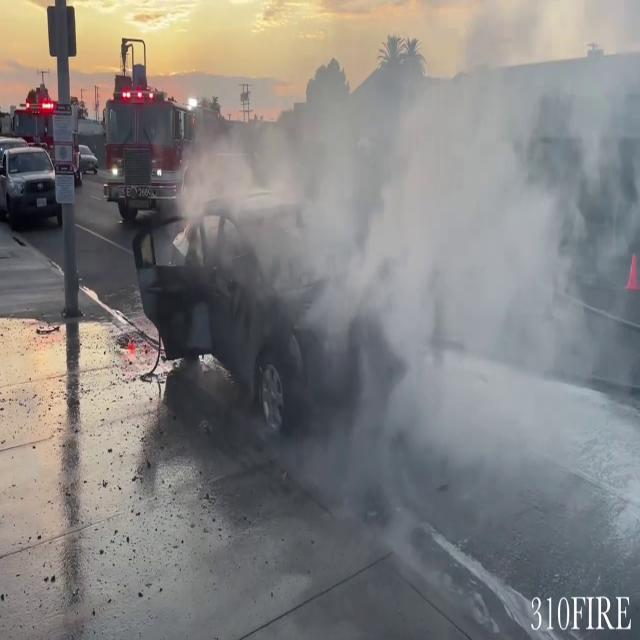Smoke: (165, 0, 640, 497)
